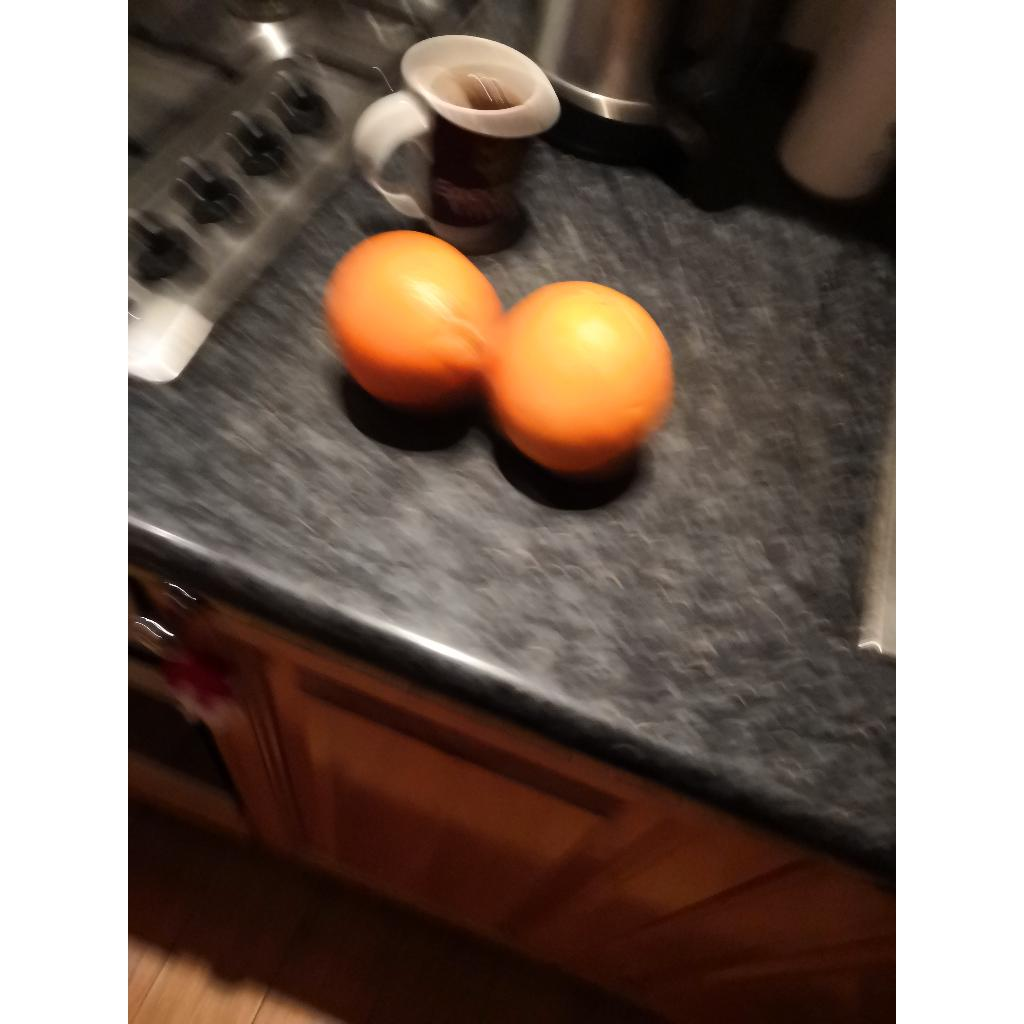orange: (484, 282, 674, 476), (324, 230, 502, 412)
